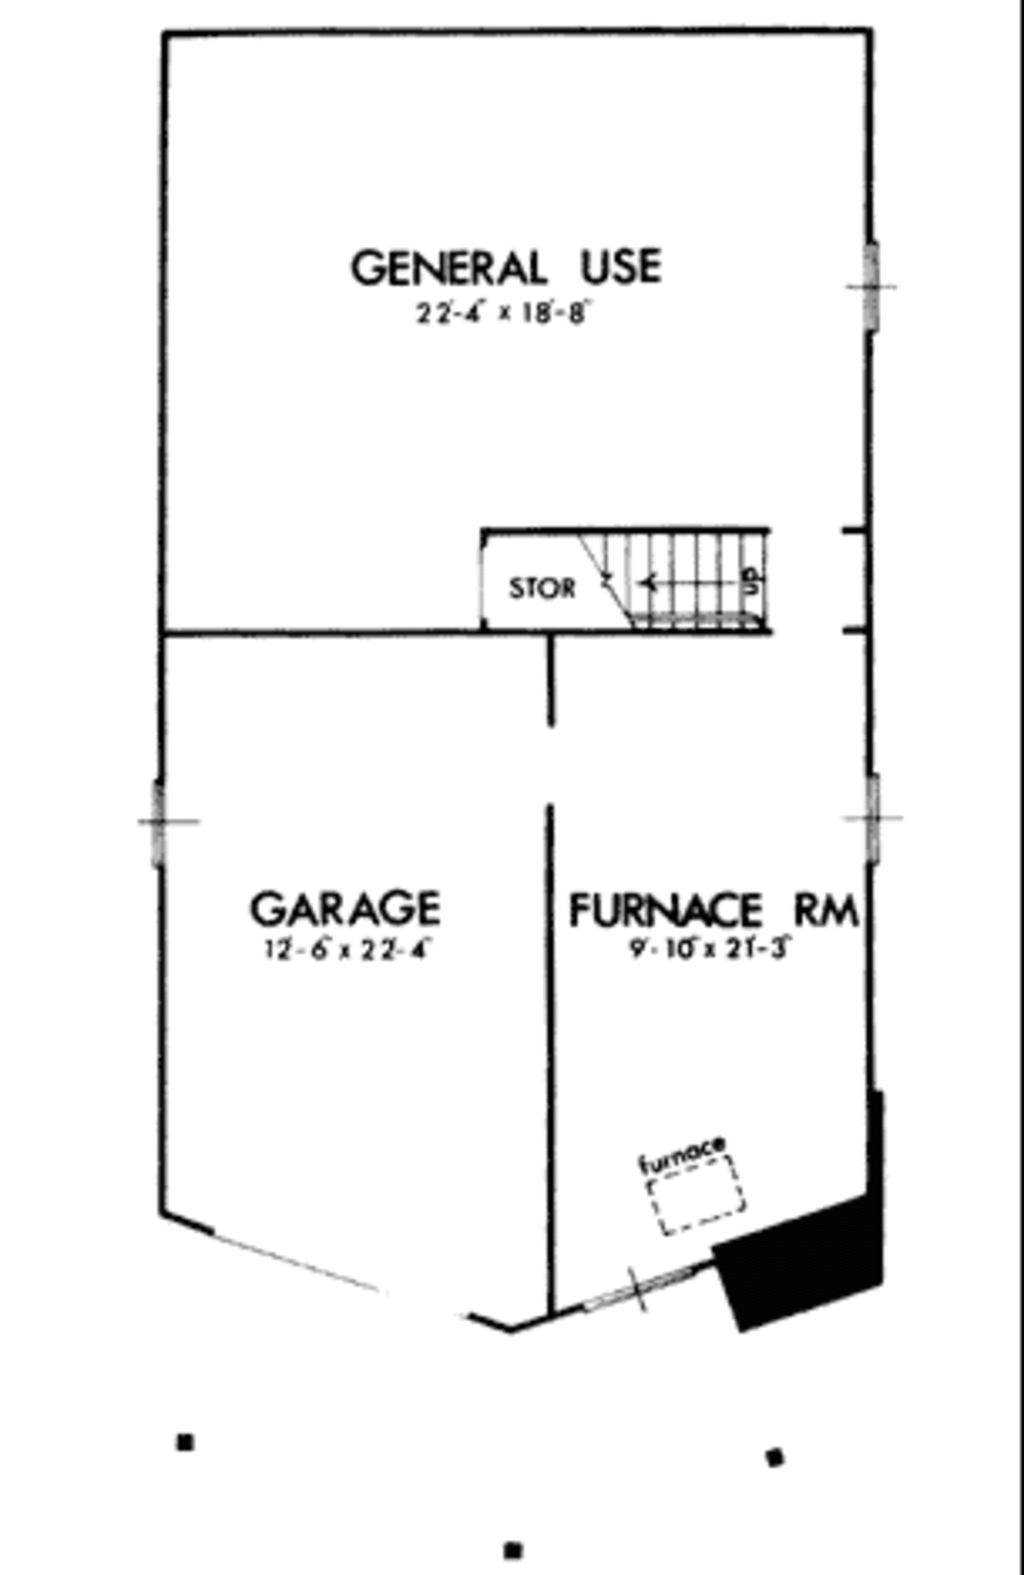stairs: (456, 515, 773, 654)
window: (856, 242, 889, 338), (149, 785, 173, 870), (861, 778, 884, 866)
